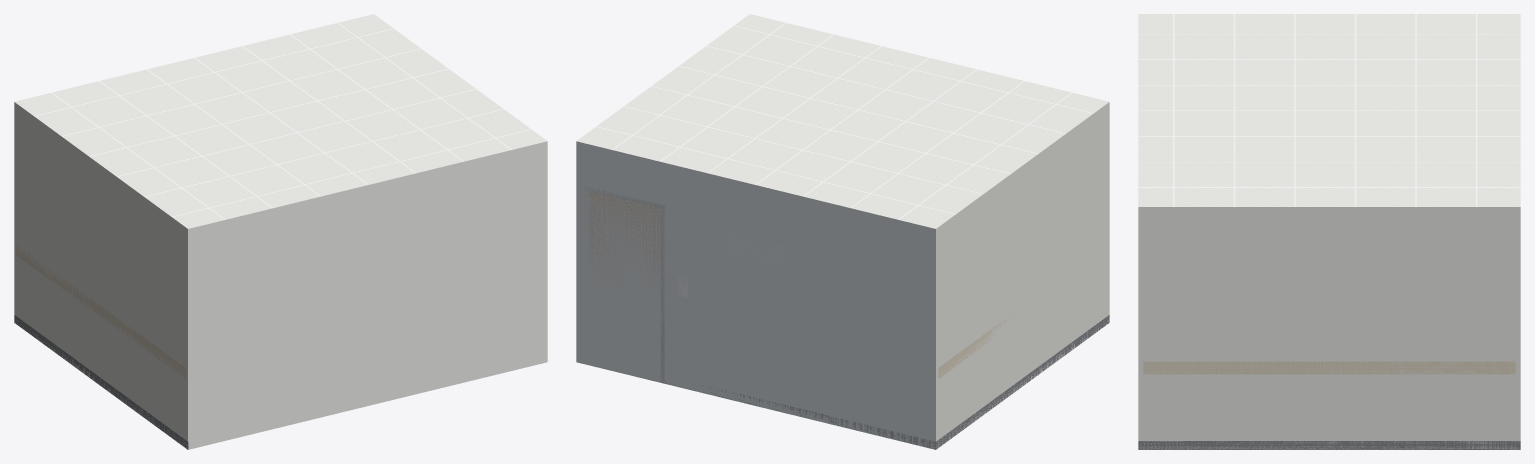
Rendered from SupplyRoom.glb.
The picture shows the model from 3 angles, left to right: view 1: azimuth 30°, elevation 25°; view 2: azimuth 150°, elevation 25°; view 3: azimuth 270°, elevation 25°; orthographic projection. The views are drawn at different scales.
Visible parts, largest first — view 1: RoomWall, RoomCeiling, RoomCrashRail, RoomCoveBase; view 2: RoomBackWall, RoomCeiling, RoomWall, RoomDoorLeaf, RoomCoveBase, RoomDoorFrame, RoomCrashRail; view 3: RoomWall, RoomCeiling, RoomCrashRail, RoomCoveBase.
Part boxes in pixels (x1,y1,x2,y2): RoomWall: [14, 102, 547, 449]; RoomCeiling: [14, 14, 547, 228]; RoomCrashRail: [16, 244, 185, 378]; RoomCoveBase: [14, 315, 188, 449]; RoomBackWall: [576, 141, 935, 449]; RoomCeiling: [576, 14, 1109, 228]; RoomWall: [936, 102, 1109, 448]; RoomDoorLeaf: [588, 191, 660, 315]; RoomCoveBase: [579, 315, 1109, 449]; RoomDoorFrame: [584, 187, 664, 383]; RoomCrashRail: [938, 313, 1013, 378]; RoomWall: [1138, 207, 1520, 449]; RoomCeiling: [1138, 14, 1520, 206]; RoomCrashRail: [1143, 361, 1515, 374]; RoomCoveBase: [1138, 441, 1520, 449].
Bounding box in the file's own units: 4.6 × 2.7 × 3.85.
19 materials, 6 textured.
